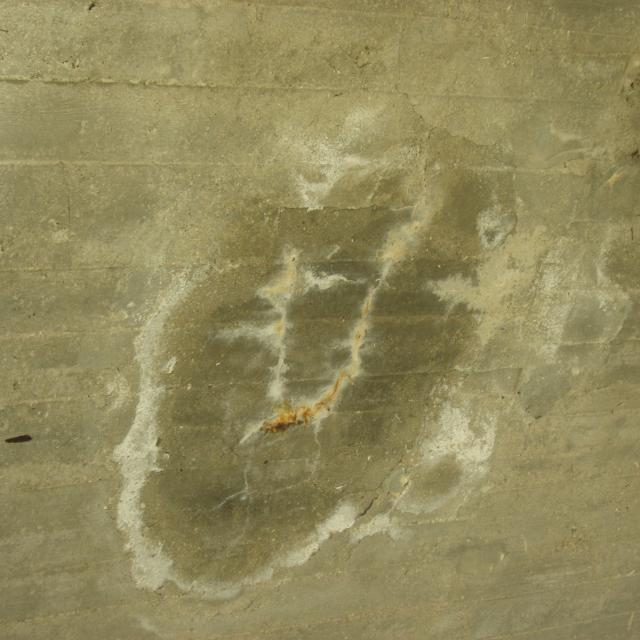corrosion: (247, 365, 362, 446)
